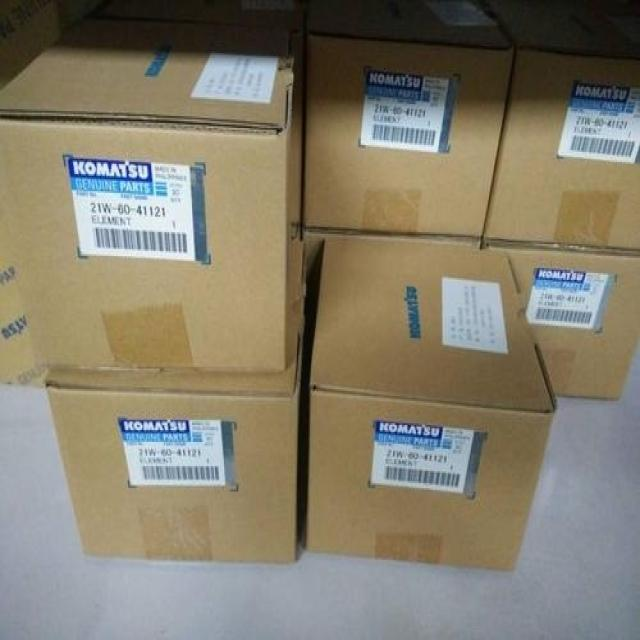box: (0, 51, 301, 369), (305, 239, 556, 568), (45, 259, 305, 561), (305, 41, 512, 237), (484, 56, 640, 249), (488, 239, 640, 398), (0, 116, 49, 387), (305, 227, 481, 261)
